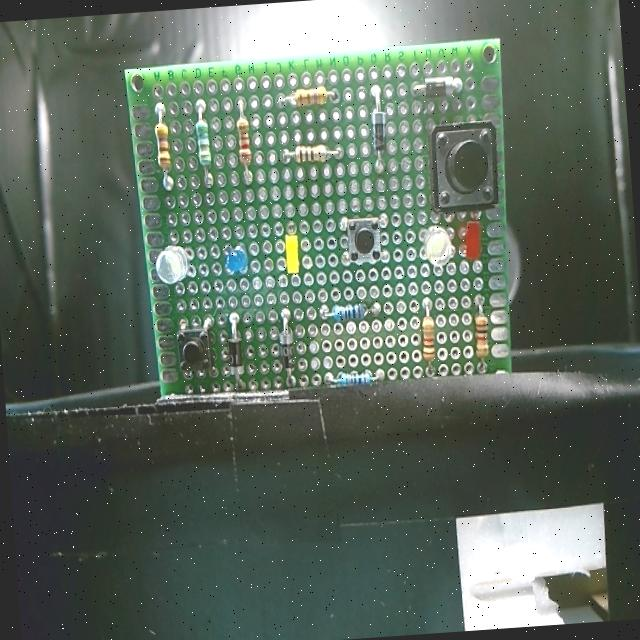diode: (224, 334, 246, 381), (368, 109, 390, 154), (274, 329, 296, 374), (422, 74, 456, 98)
led: (154, 242, 193, 288), (423, 224, 455, 268), (464, 218, 484, 266), (222, 240, 248, 276), (282, 234, 301, 276)
resistor: (418, 314, 438, 366), (292, 82, 330, 109), (472, 312, 493, 360), (154, 120, 172, 174), (292, 143, 334, 165), (234, 115, 252, 166), (194, 116, 212, 167), (328, 299, 368, 321), (334, 372, 376, 388)
switch: (428, 119, 500, 212), (173, 328, 212, 381), (346, 218, 384, 264)
